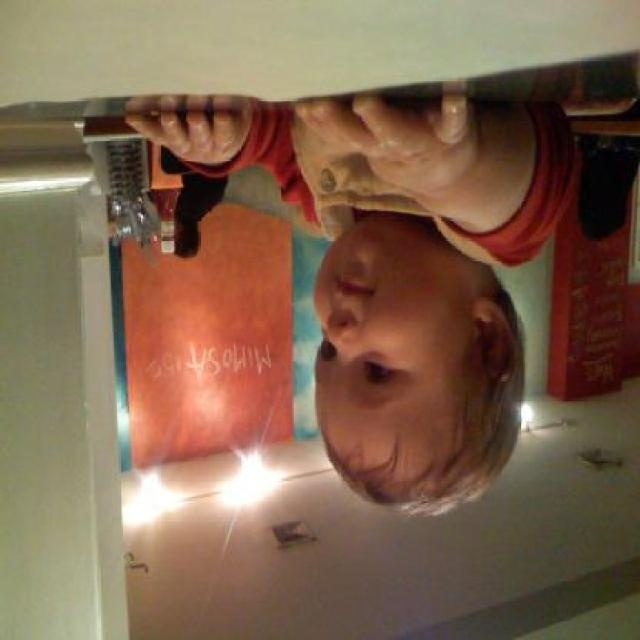obstacle: (113, 110, 578, 558)
